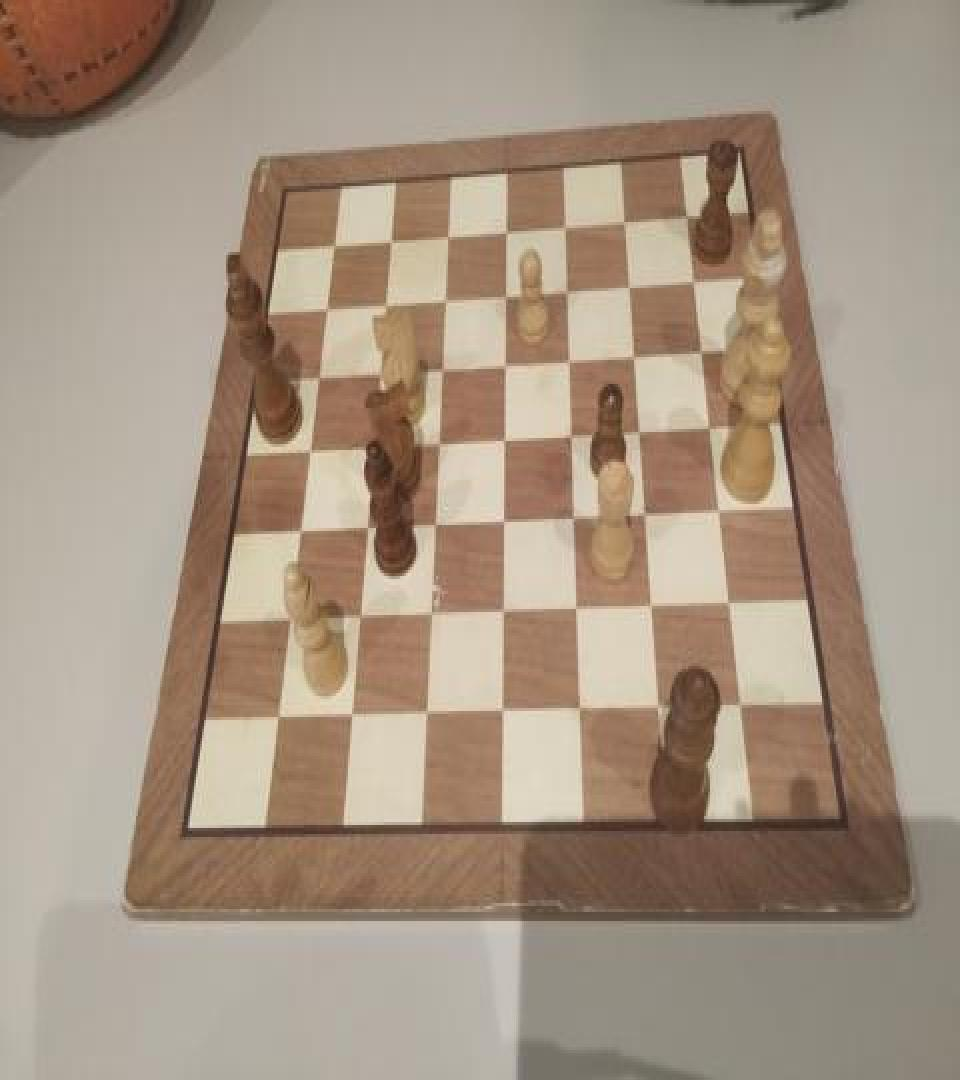xcorner: (712, 499, 732, 530), (679, 199, 699, 230), (271, 708, 291, 738), (344, 706, 364, 736), (496, 702, 516, 732), (573, 700, 593, 730), (653, 699, 673, 729), (734, 696, 754, 726), (282, 609, 302, 639), (352, 606, 372, 636), (423, 604, 443, 634), (570, 598, 590, 628), (722, 594, 742, 624), (291, 519, 311, 549), (359, 516, 379, 546), (427, 513, 447, 543), (496, 510, 516, 540), (567, 507, 587, 537), (639, 502, 659, 532), (301, 438, 321, 468), (365, 434, 385, 464), (430, 430, 450, 460), (497, 426, 517, 456), (564, 423, 584, 453), (633, 418, 653, 448), (702, 414, 722, 444), (309, 362, 329, 392), (371, 358, 391, 388), (433, 354, 453, 384), (497, 350, 517, 380), (561, 345, 581, 375), (627, 340, 647, 370), (694, 336, 714, 366), (317, 292, 337, 322), (376, 288, 396, 318), (436, 284, 456, 314), (497, 279, 517, 309), (559, 274, 579, 304), (622, 270, 642, 300), (686, 266, 706, 296), (324, 230, 344, 260), (381, 225, 401, 255), (439, 219, 459, 249), (497, 214, 517, 244), (557, 210, 577, 240), (617, 206, 637, 236), (419, 704, 439, 733), (496, 602, 516, 631), (645, 596, 665, 625)
